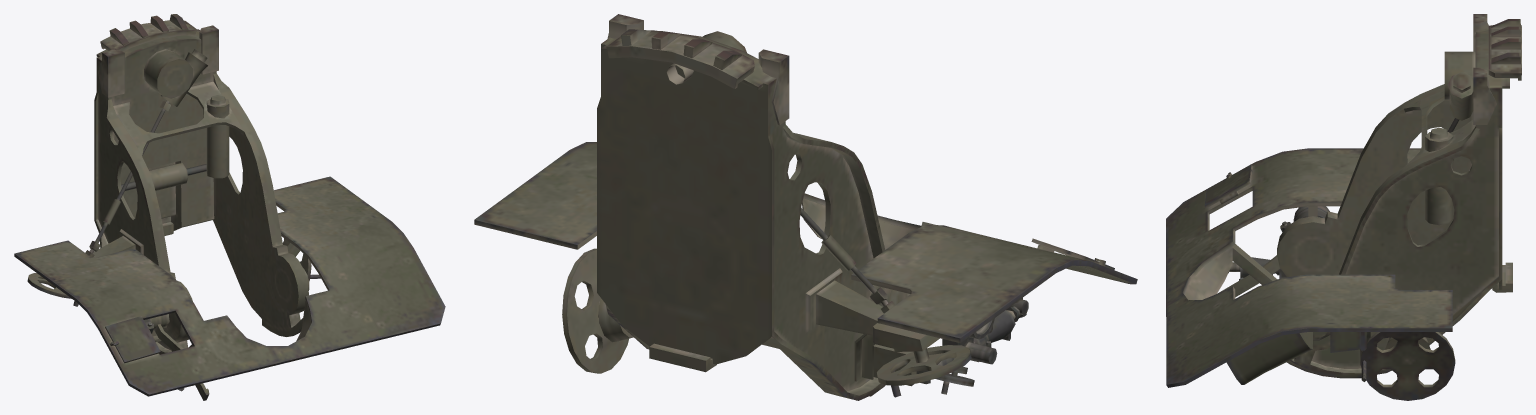
Rendered from Turret_01.glb.
The picture shows the model from 3 angles, left to right: view 1: azimuth 30°, elevation 25°; view 2: azimuth 150°, elevation 25°; view 3: azimuth 270°, elevation 25°; orthographic projection. The views are drawn at different scales.
Parts seen in each view (by area): view 1: set_0_group_0; view 2: set_0_group_0; view 3: set_0_group_0.
Boxes of the visible parts, <box> form: set_0_group_0: <box>14,14,445,400</box>; set_0_group_0: <box>474,14,1137,400</box>; set_0_group_0: <box>1166,14,1521,400</box>.
Bounding box in the file's own units: 1.6 × 1.3 × 1.33.
Materials: 1 (1 with a texture image).
